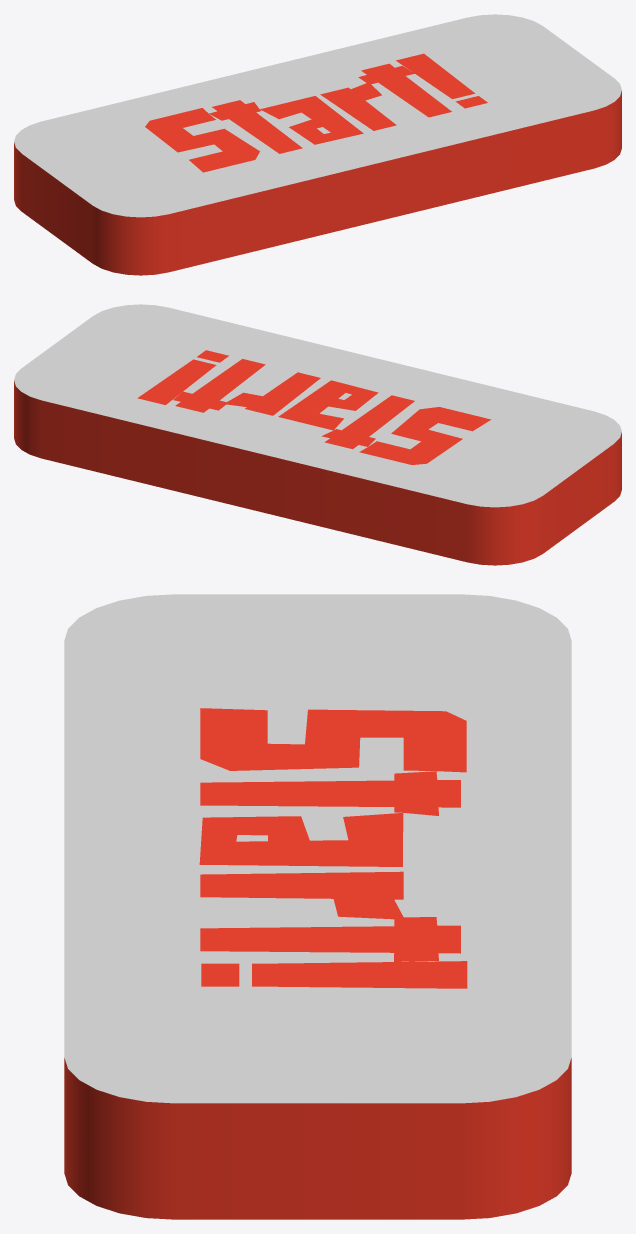
The model's file is Pad Start.fbx.
The picture shows the model from 3 angles, top to bottom: view 1: azimuth 30°, elevation 25°; view 2: azimuth 150°, elevation 25°; view 3: azimuth 270°, elevation 25°; orthographic projection. The views are drawn at different scales.
Parts seen in each view (by area): view 1: Platform Start.001; view 2: Platform Start.001; view 3: Platform Start.001.
Boxes of the visible parts, box(x1,y1,x2,y2) form: Platform Start.001: box(14, 14, 621, 275); Platform Start.001: box(14, 304, 621, 565); Platform Start.001: box(64, 594, 571, 1219).
Size of the model in its own units: 279 by 29.76 by 118.
